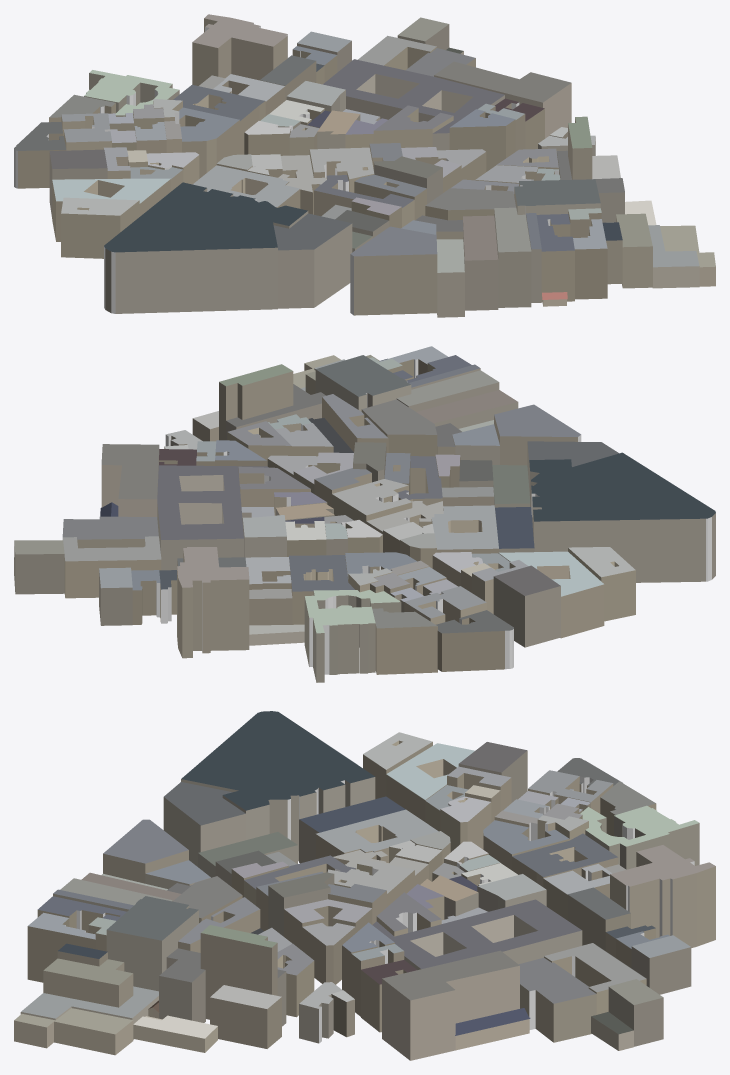
The picture shows the model from 3 angles, top to bottom: view 1: azimuth 30°, elevation 25°; view 2: azimuth 150°, elevation 25°; view 3: azimuth 270°, elevation 25°; orthographic projection. The views are drawn at different scales.
Parts seen in each view (by area): view 1: tuile; view 2: tuile; view 3: tuile.
Part boxes in pixels (x1,y1,x2,y2): tuile: (14, 14, 715, 317); tuile: (14, 346, 715, 682); tuile: (14, 711, 715, 1060).
Bounding box in the file's own units: 260 × 40.85 × 278.
